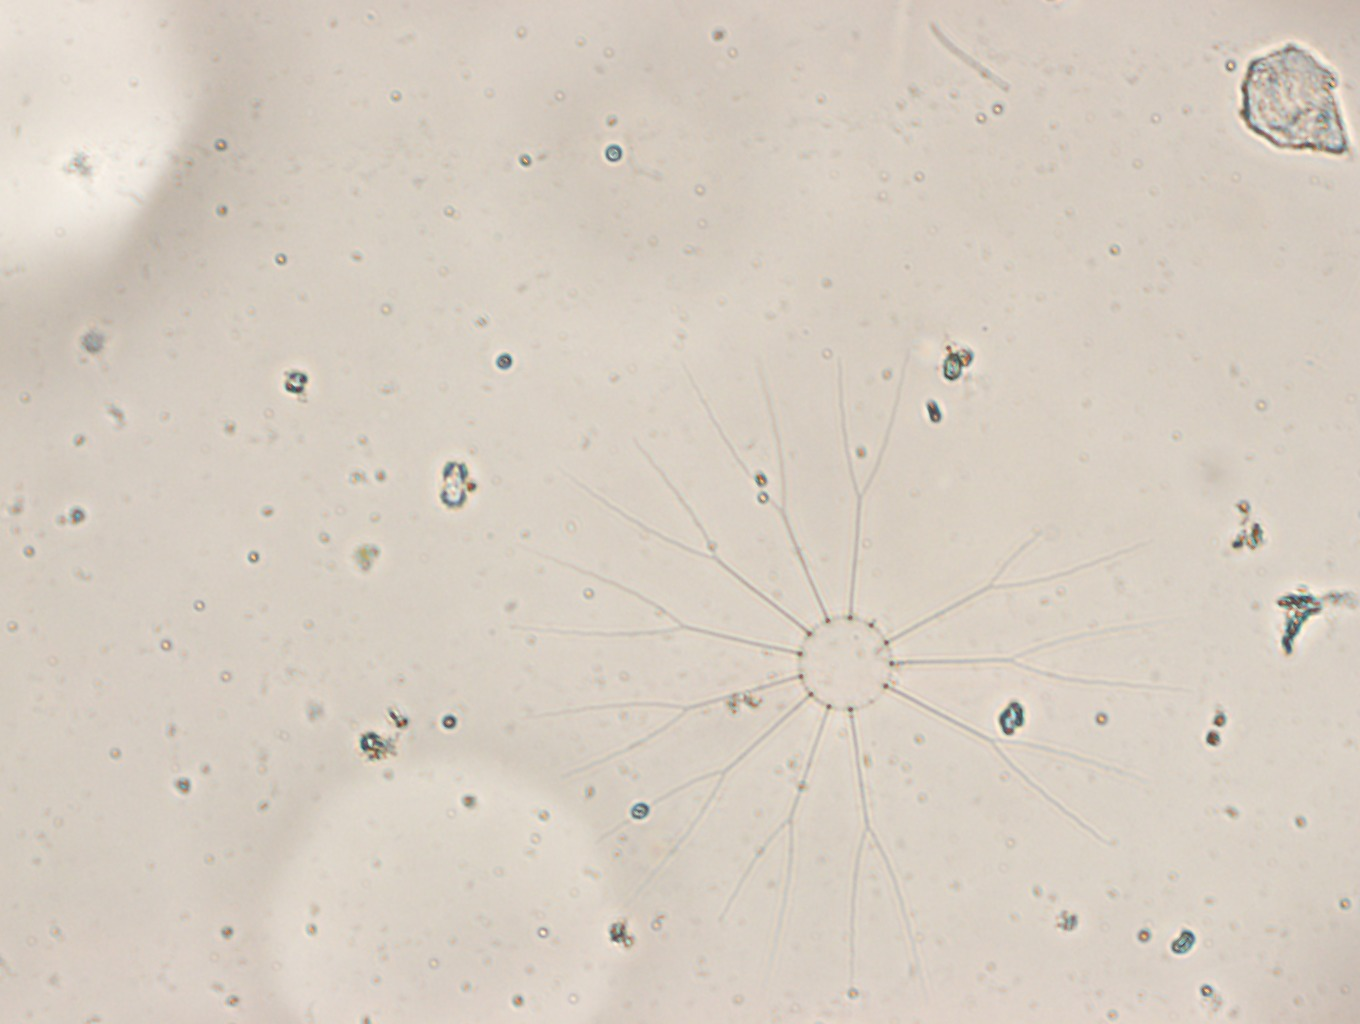helicotheca: (517, 349, 1182, 993)
